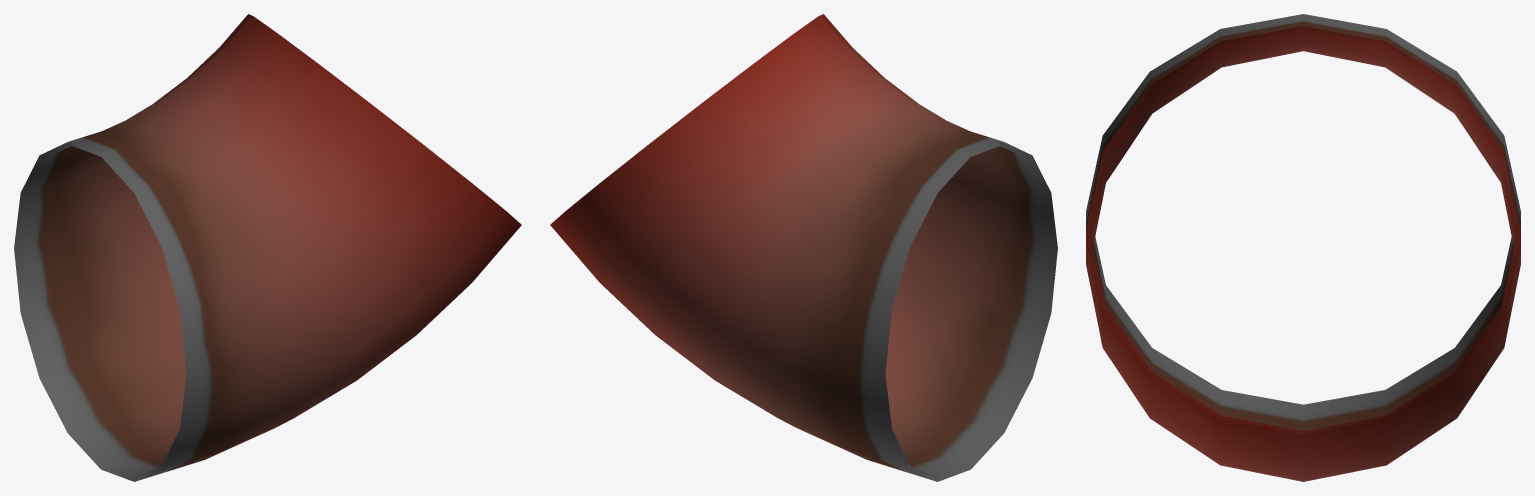
The model's file is pipe01_crn_16a_hollow.fbx.
3 renders of one model, left to right at view 1: azimuth 30°, elevation 25°; view 2: azimuth 150°, elevation 25°; view 3: azimuth 270°, elevation 25°, orthographic. The views are drawn at different scales.
Visible parts, largest first — view 1: pipe01_crn_16a_hollow; view 2: pipe01_crn_16a_hollow; view 3: pipe01_crn_16a_hollow.
Boxes of the visible parts, x1,y1,x2,y2 form: pipe01_crn_16a_hollow: (14,14,521,481); pipe01_crn_16a_hollow: (550,14,1057,481); pipe01_crn_16a_hollow: (1086,14,1520,481).
Bounding box in the file's own units: 15.56 × 14.93 × 12.
